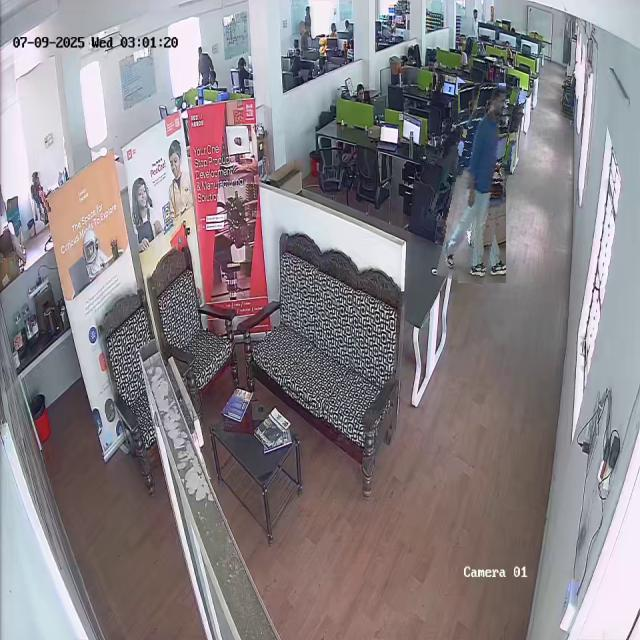person: (447, 82, 517, 285), (428, 121, 468, 223), (29, 169, 54, 215)
